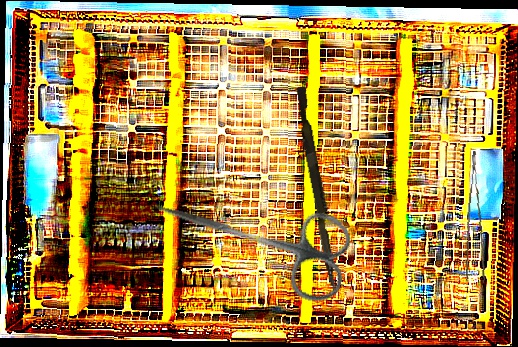Iris Scissors: (141, 168, 359, 308)
Pusher: (291, 86, 345, 294)
Tissue Forceps: (459, 151, 498, 284)
